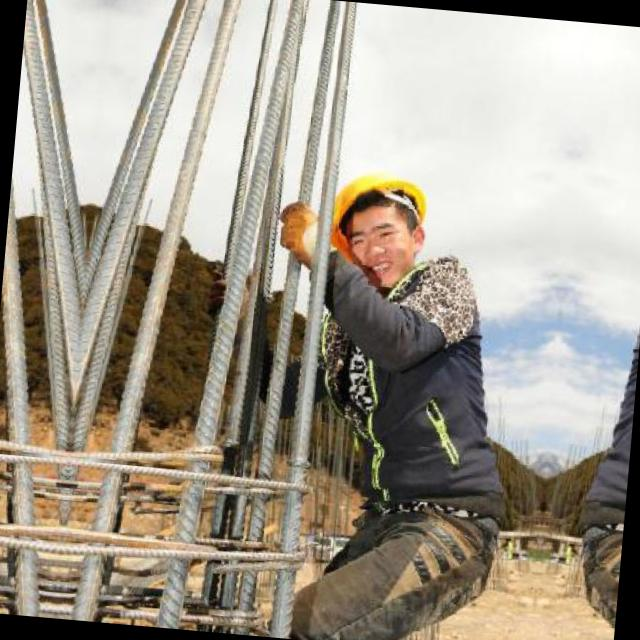helmet: (316, 157, 446, 290)
